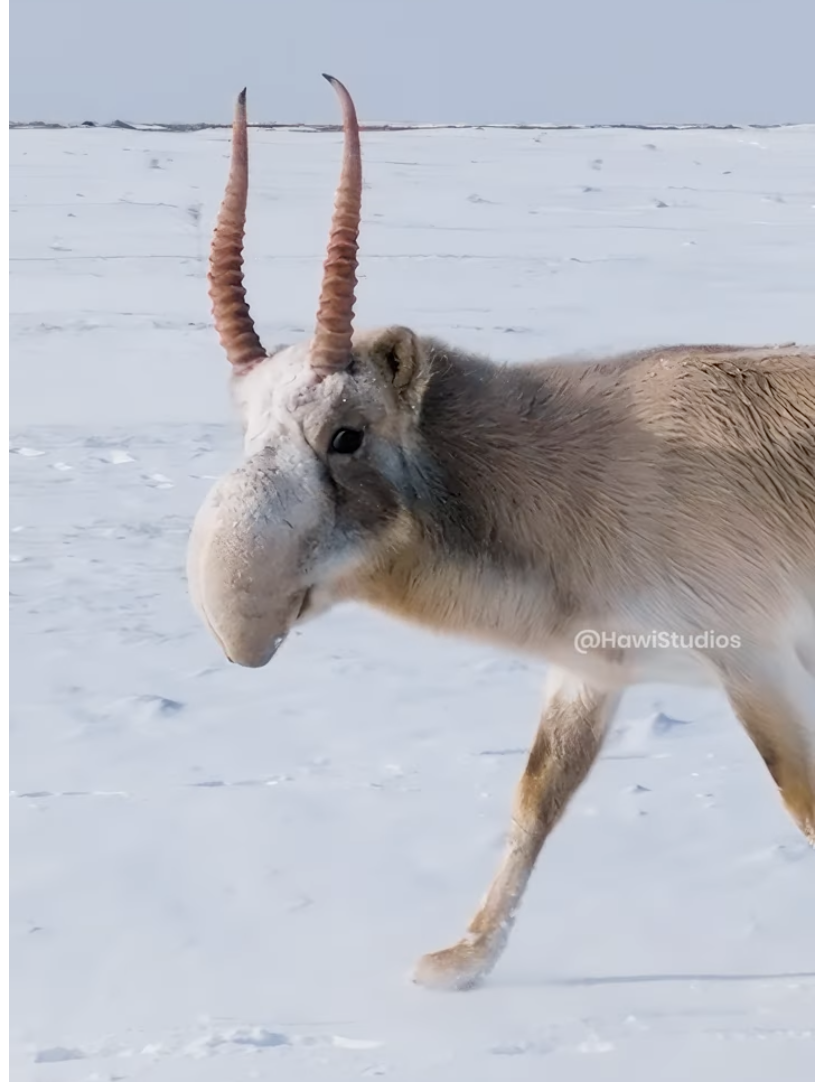saiga: (190, 72, 822, 1008)
